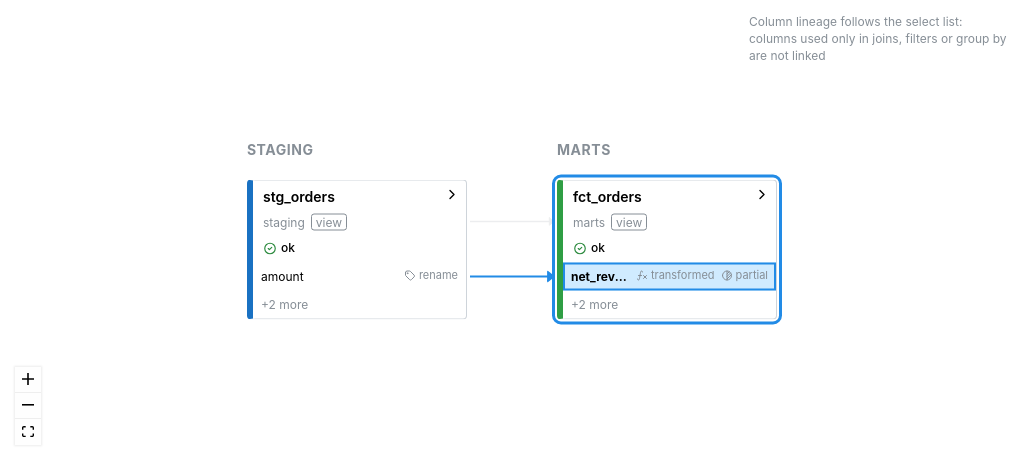
Test: GraphNode › during a focus a reached node's chevron says whether the rest is shown
Expected: the button "amount rename" is shown, [253,262,466,290]
Click the button named "Show all columns of stg_orders": (452, 194) [442,184,462,204]
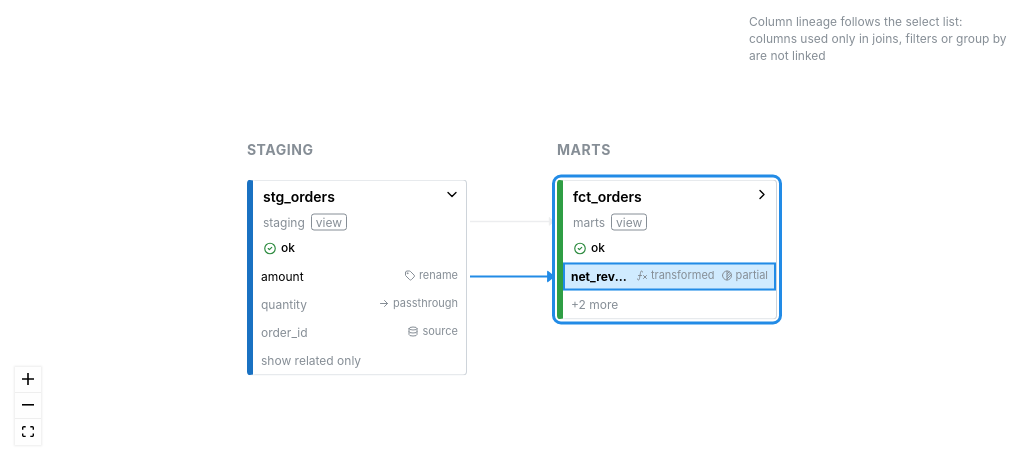
Now the button named "Show related columns only of stg_orders" is expanded, box [442,184,462,204]
